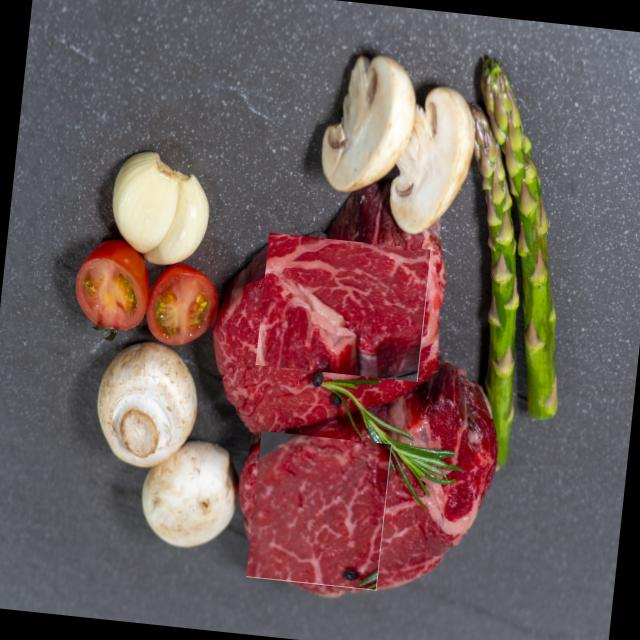beef: (255, 232, 431, 382), (242, 434, 395, 587)
